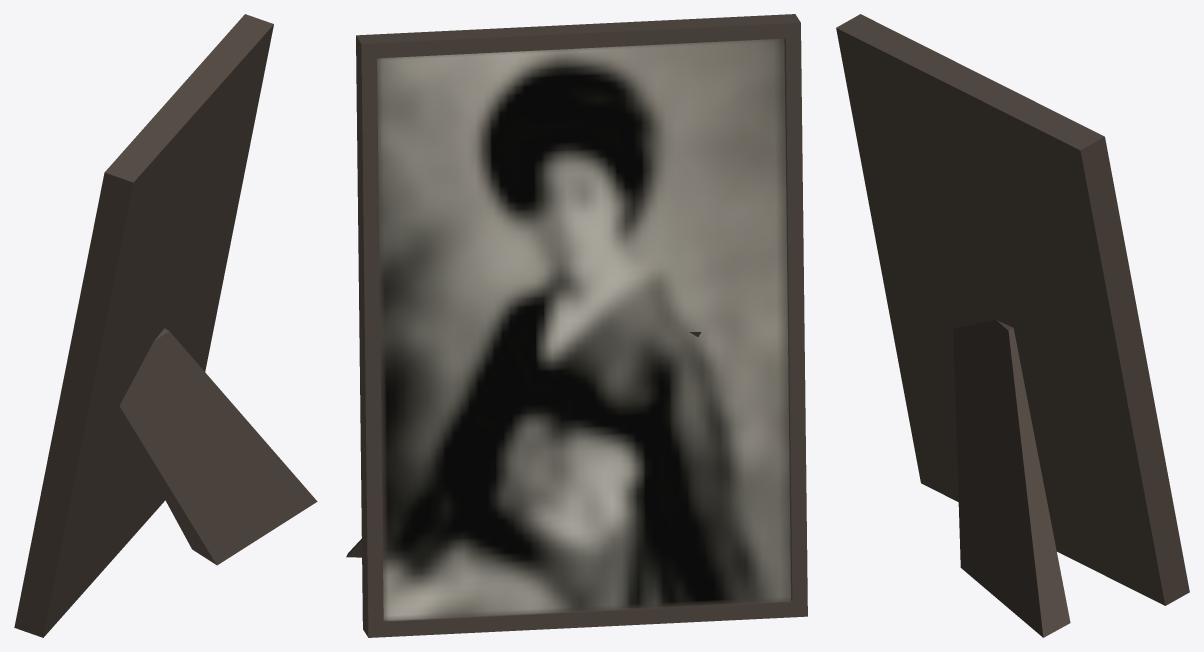
The model's file is picture.gltf.
3 views of the same model, side by side, from view 1: azimuth 30°, elevation 25°; view 2: azimuth 150°, elevation 25°; view 3: azimuth 270°, elevation 25° (orthographic). The views are drawn at different scales.
Visible parts, largest first — view 1: PictureStanding.001; view 2: PictureStanding.001; view 3: PictureStanding.001.
Part boxes in pixels (<box>): PictureStanding.001: <box>14,14,317,637</box>; PictureStanding.001: <box>346,14,807,637</box>; PictureStanding.001: <box>836,14,1189,637</box>.
Size of the model in its own units: 0.1305 by 0.1723 by 0.1125.
Materials: 1 (1 with a texture image).
